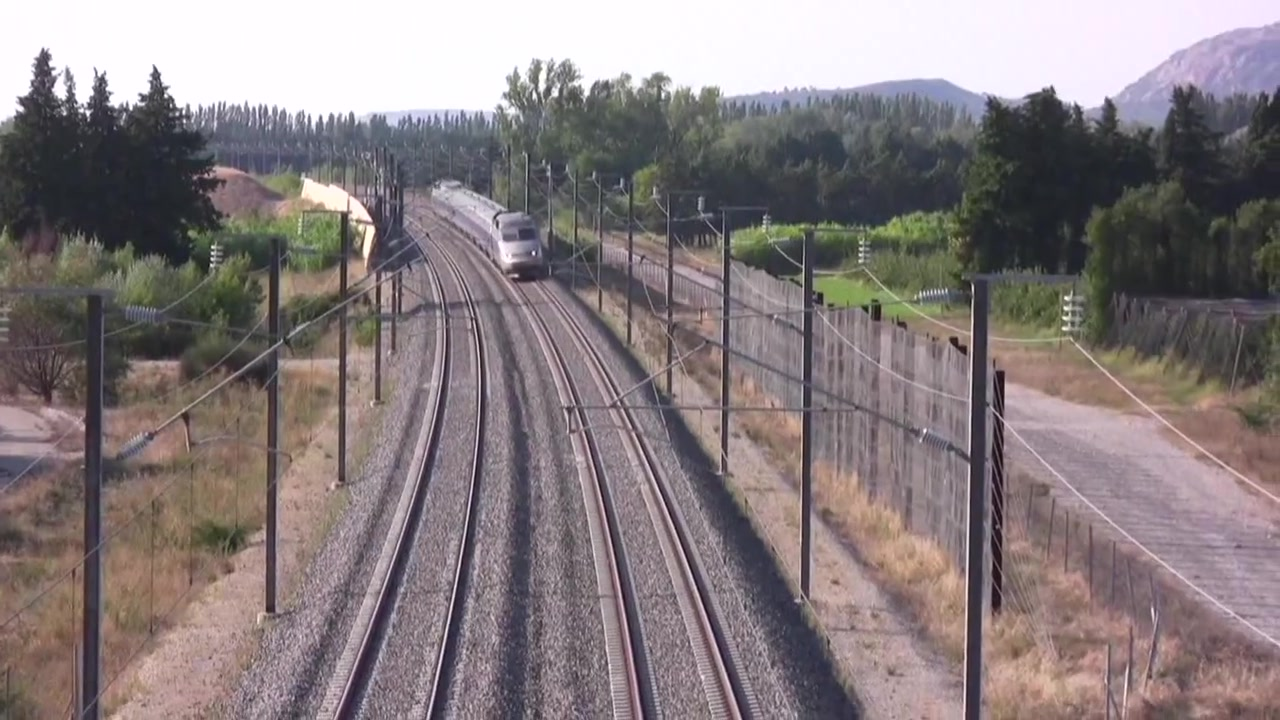train: (428, 175, 548, 280)
